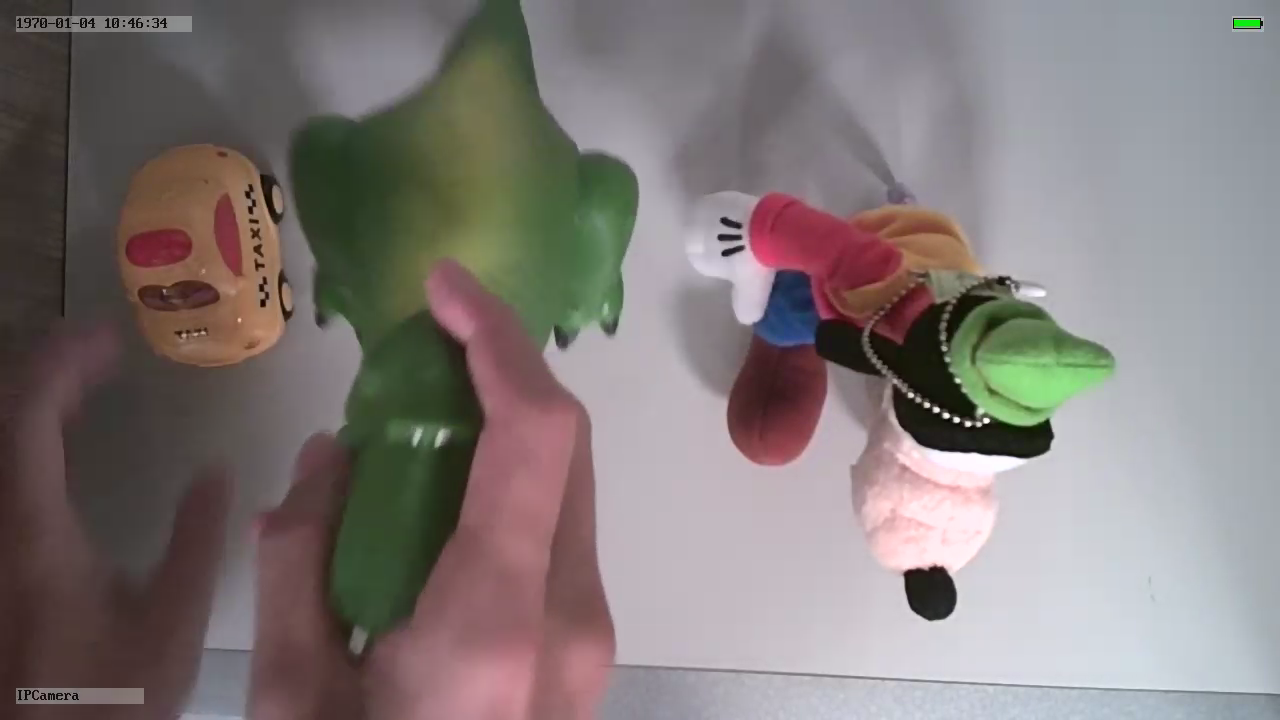goofy: (679, 182, 1113, 629)
